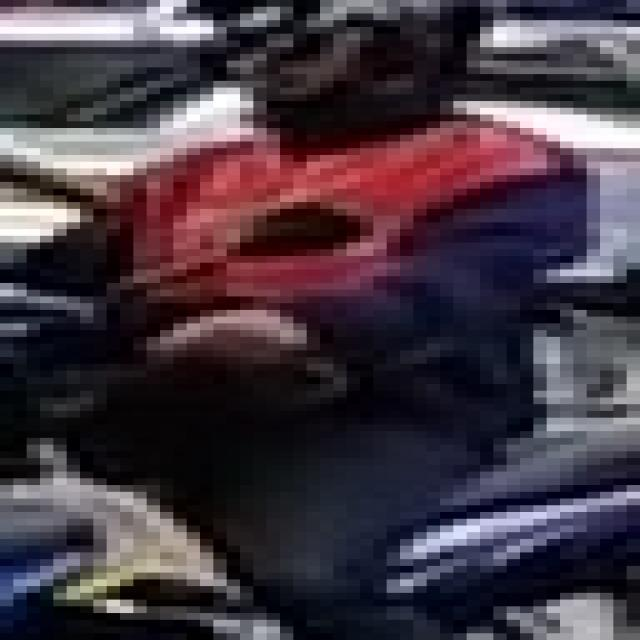door: (0, 0, 626, 633)
helmet: (160, 0, 480, 128)
